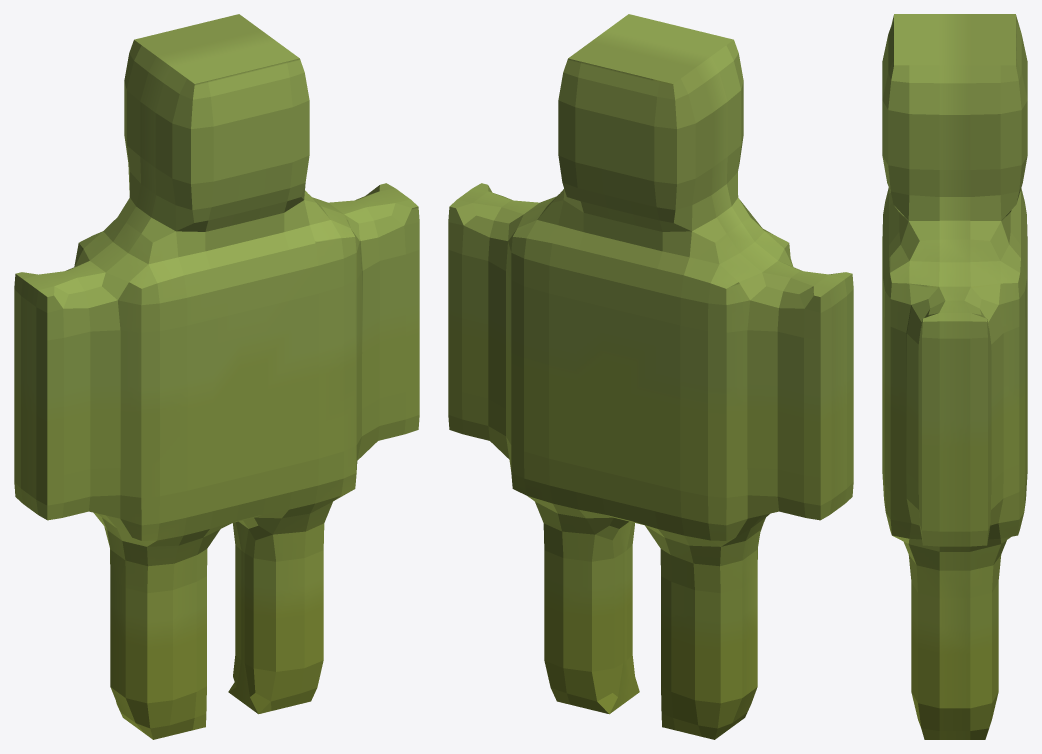
Rendered from darkWizard.glb.
3 renders of one model, left to right at view 1: azimuth 30°, elevation 25°; view 2: azimuth 150°, elevation 25°; view 3: azimuth 270°, elevation 25°, orthographic.
Parts seen in each view (by area): view 1: geometry_0; view 2: geometry_0; view 3: geometry_0.
Boxes of the visible parts, bbox=[...] form: geometry_0: bbox=[14, 14, 419, 739]; geometry_0: bbox=[448, 14, 853, 739]; geometry_0: bbox=[882, 14, 1027, 739].
Bounding box in the file's own units: 0.597 × 1 × 0.199.
Materials: 1 (1 with a texture image).
